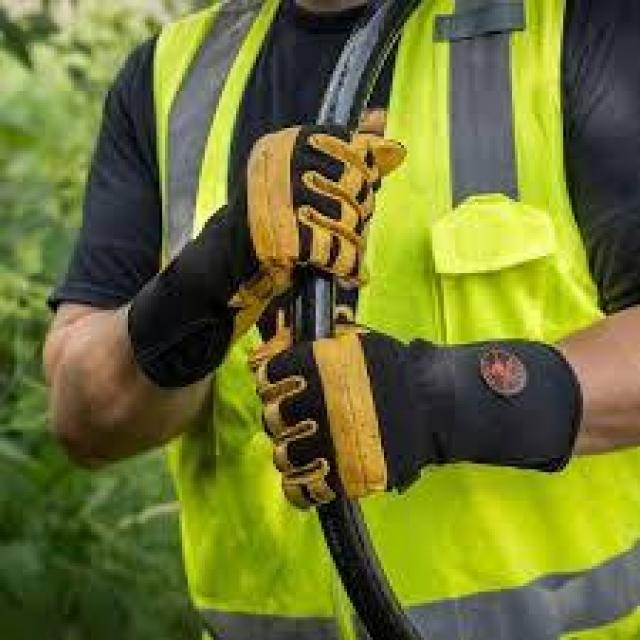Gloves: (118, 108, 409, 392), (244, 308, 584, 520)
Person: (42, 0, 640, 637)
Safety Vest: (151, 0, 637, 637)
